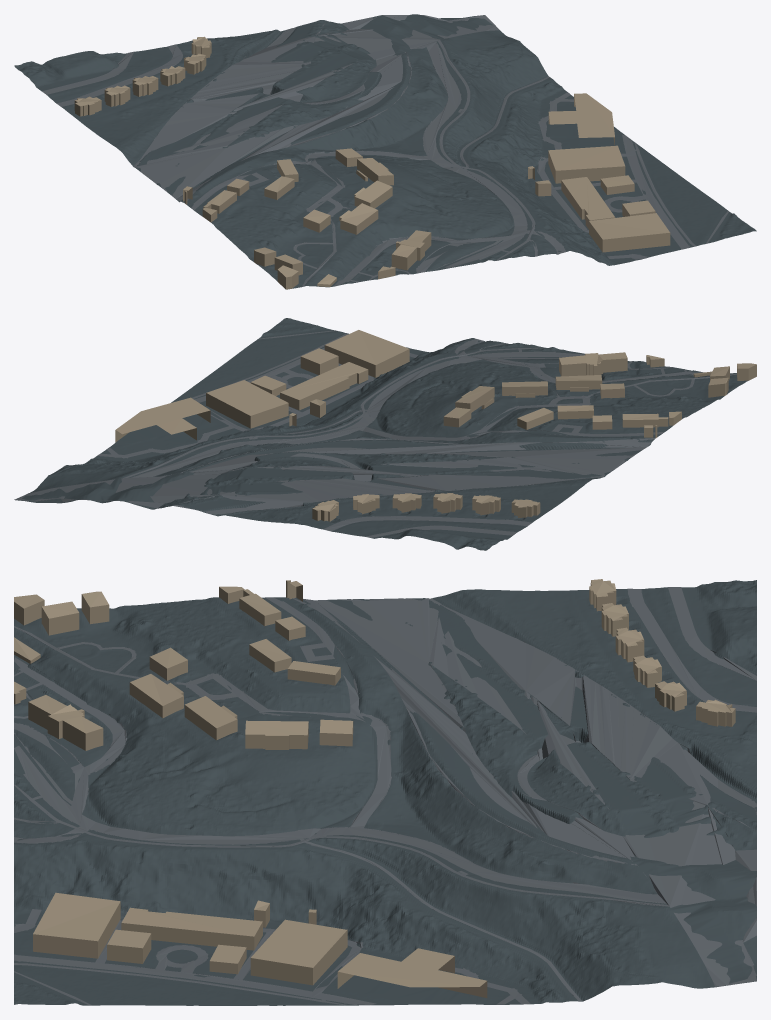
File: epsg26910-1423-10896.lod0.glb
The picture shows the model from 3 angles, top to bottom: view 1: azimuth 30°, elevation 25°; view 2: azimuth 150°, elevation 25°; view 3: azimuth 270°, elevation 25°; orthographic projection. The views are drawn at different scales.
Parts seen in each view (by area): view 1: epsg26910-1423-10896-lod0; view 2: epsg26910-1423-10896-lod0; view 3: epsg26910-1423-10896-lod0.
Boxes of the visible parts, left/top/right/bottom form: epsg26910-1423-10896-lod0: left=14, top=14, right=756, bottom=289; epsg26910-1423-10896-lod0: left=14, top=318, right=756, bottom=550; epsg26910-1423-10896-lod0: left=14, top=579, right=756, bottom=1005.
Bounding box in the file's own units: 384 × 66.39 × 384.
